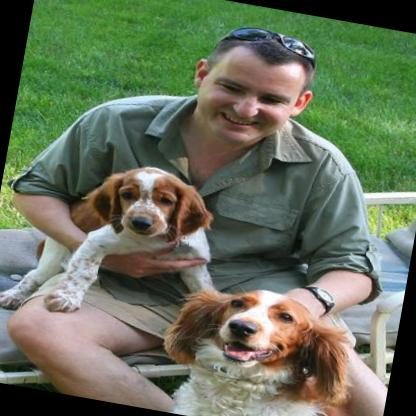Welsh_springer_spaniel: (0, 137, 232, 345), (146, 270, 370, 416)
